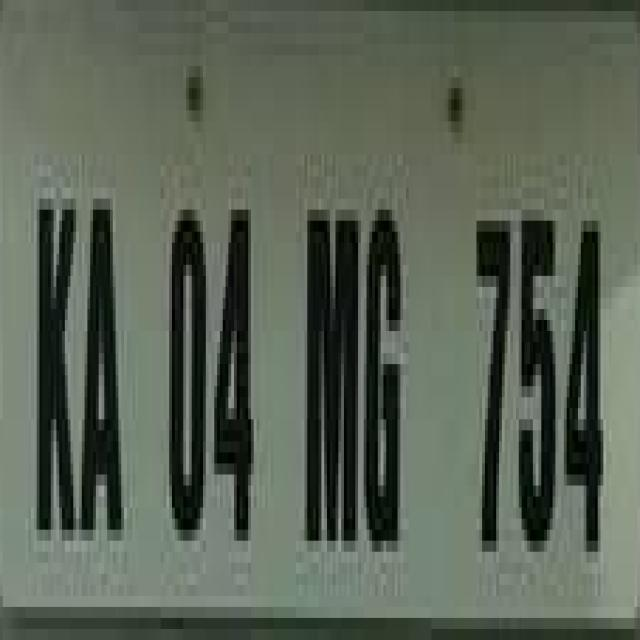license_plate: (17, 0, 640, 629)
